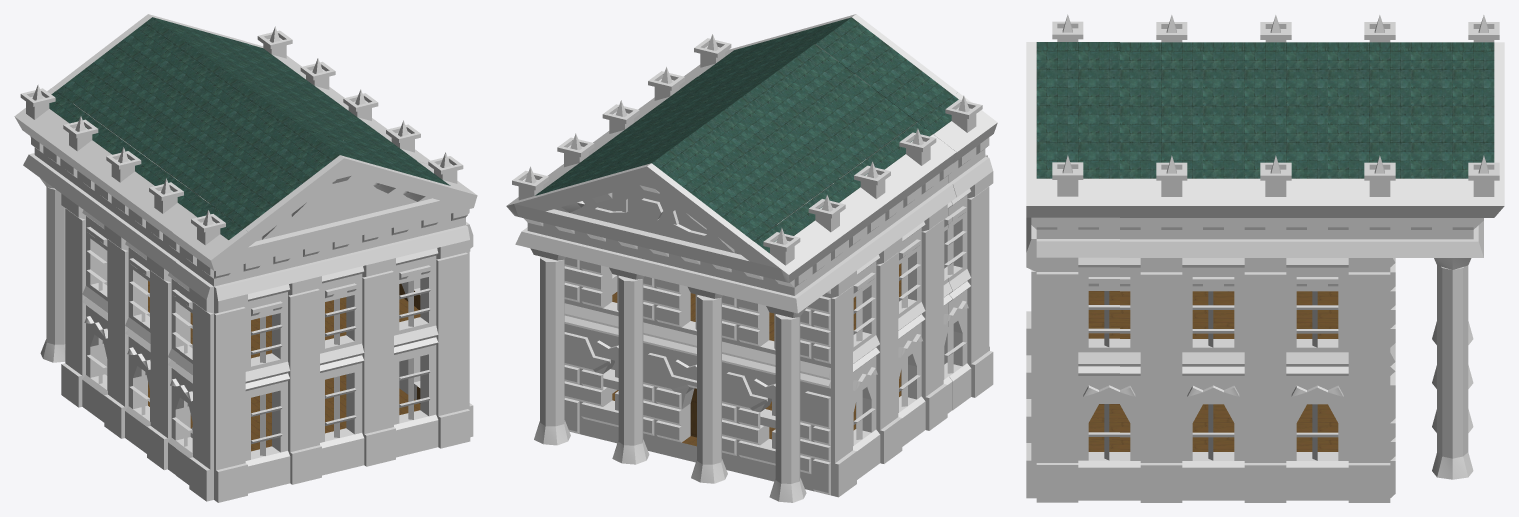
The model's file is myzei.fbx.
The picture shows the model from 3 angles, left to right: view 1: azimuth 30°, elevation 25°; view 2: azimuth 150°, elevation 25°; view 3: azimuth 270°, elevation 25°; orthographic projection. The views are drawn at different scales.
Parts seen in each view (by area): view 1: музей; view 2: музей; view 3: музей.
Boxes of the visible parts, x1,y1,x2,y2 form: музей: (14, 14, 477, 502); музей: (506, 14, 997, 502); музей: (1026, 14, 1504, 502).
Size of the model in its own units: 1802 by 2025 by 2300.
